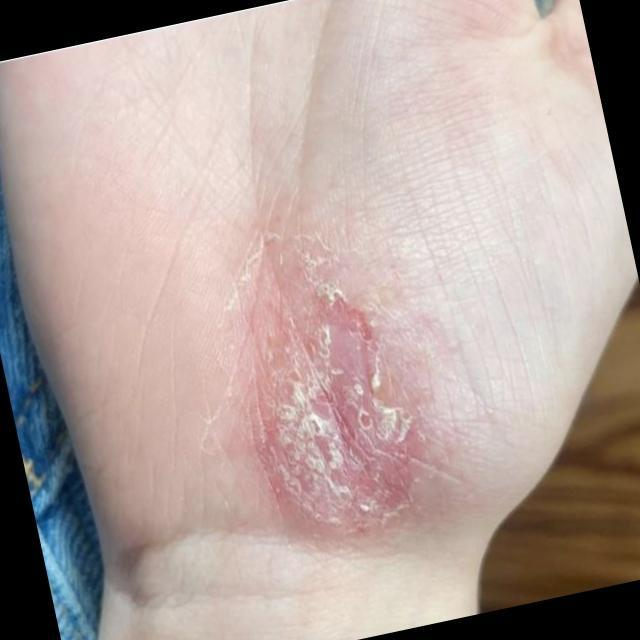Eczema: (228, 229, 432, 546)
